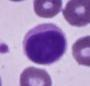M: (20, 22, 69, 66)
